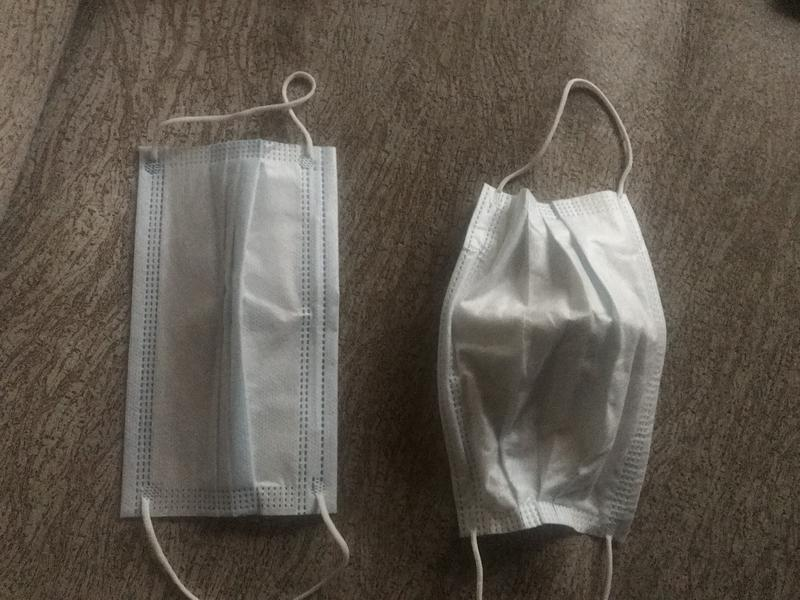medical_mask: (435, 77, 667, 600), (122, 69, 349, 599)
